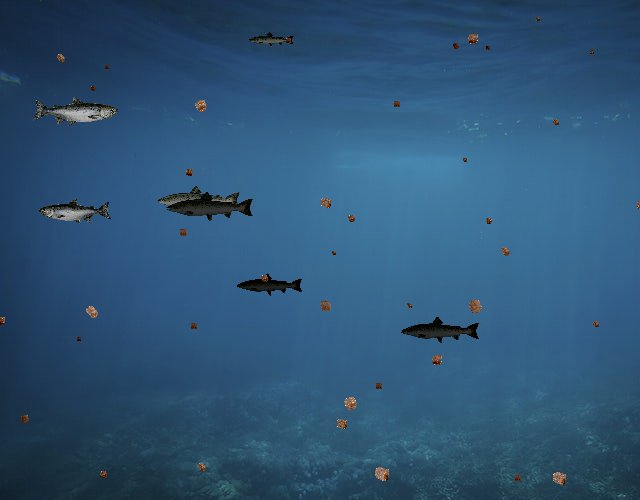Fish: (166, 190, 256, 223), (156, 184, 242, 215), (32, 96, 118, 127), (401, 316, 482, 345), (39, 198, 112, 224), (237, 272, 305, 297), (249, 31, 296, 48)
Pellet: (314, 192, 337, 215), (495, 241, 515, 261), (51, 48, 70, 67), (181, 164, 198, 181), (372, 379, 386, 393), (87, 83, 100, 96), (460, 154, 470, 164)
